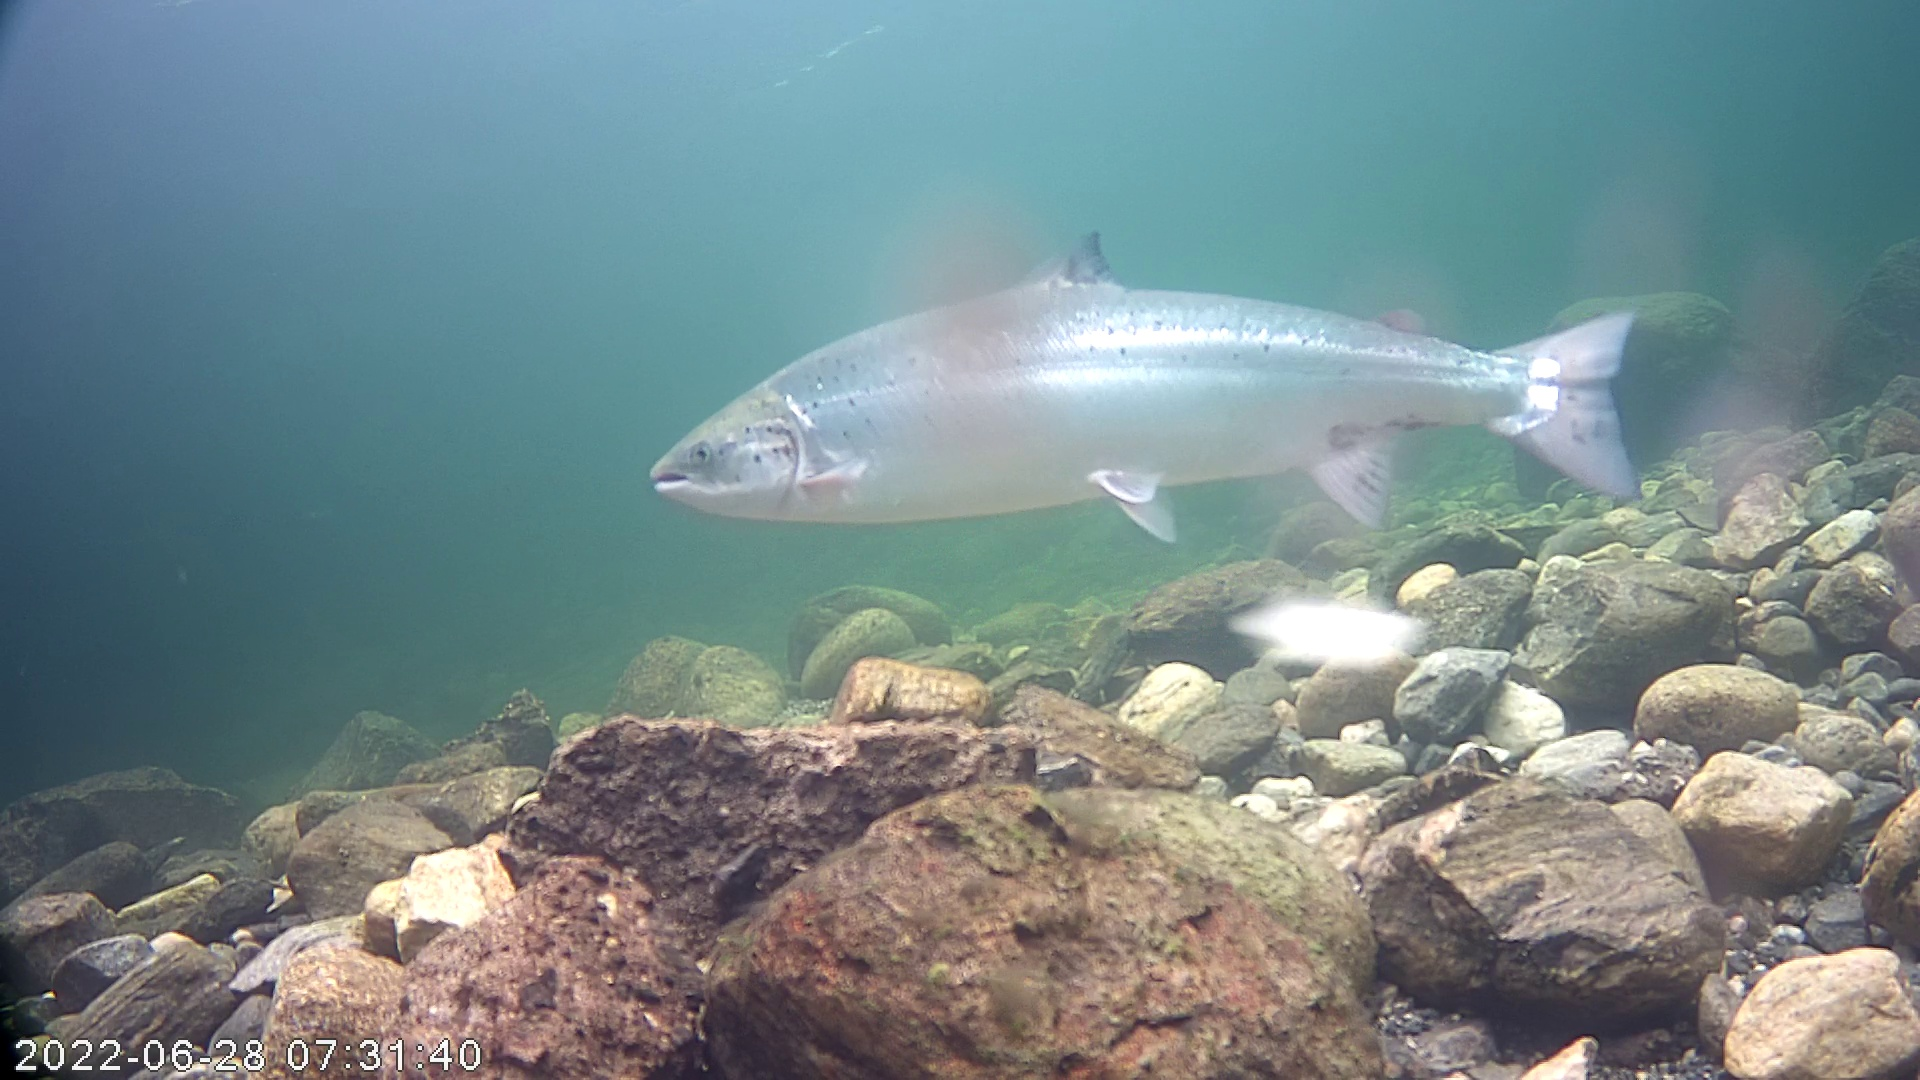salmon: (640, 120, 1683, 607)
